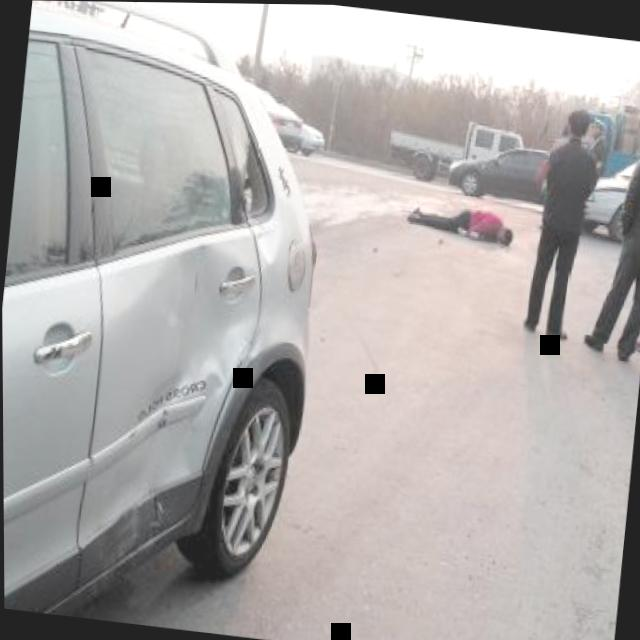Fall-Detected: (398, 185, 530, 251)
